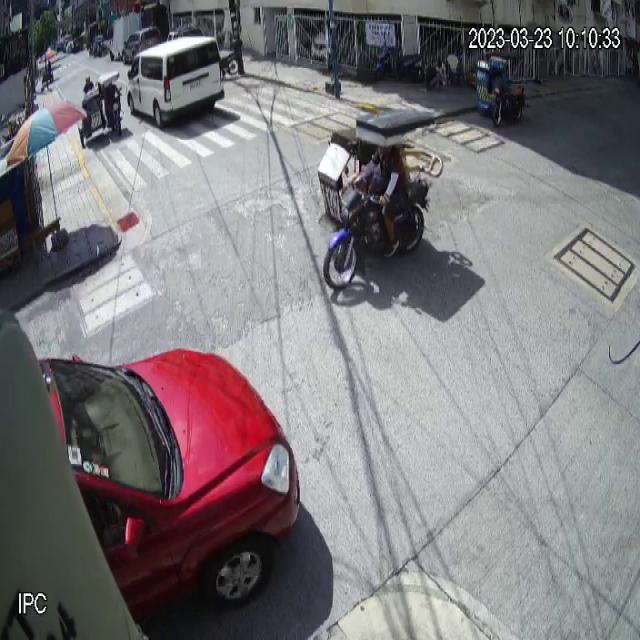Tricycle: (317, 109, 444, 292), (476, 49, 528, 127), (78, 70, 123, 150)
Van: (126, 36, 225, 130)
